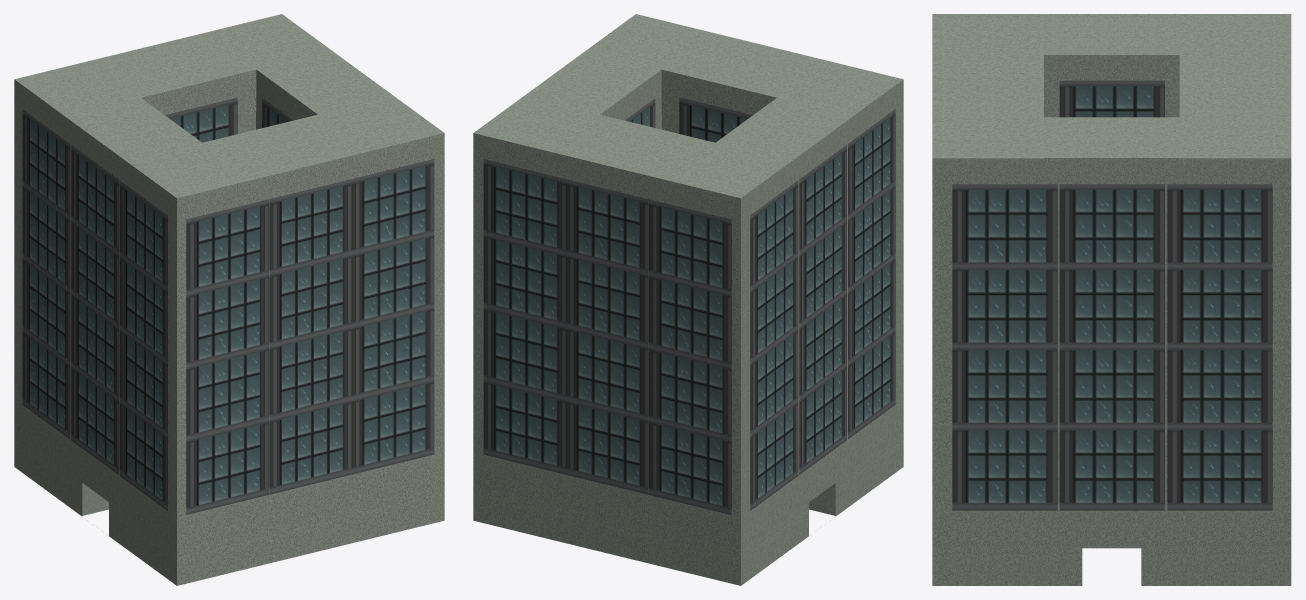
Rendered from BGN_BCW BUILD S.fbx.
3 renders of one model, left to right at view 1: azimuth 30°, elevation 25°; view 2: azimuth 150°, elevation 25°; view 3: azimuth 270°, elevation 25°, orthographic. The views are drawn at different scales.
Parts seen in each view (by area): view 1: BGN_BCW_BUILD_S; view 2: BGN_BCW_BUILD_S; view 3: BGN_BCW_BUILD_S.
Part boxes in pixels (x1,y1,x2,y2): BGN_BCW_BUILD_S: (14,14,444,585); BGN_BCW_BUILD_S: (473,14,903,585); BGN_BCW_BUILD_S: (932,14,1291,585).
Bounding box in the file's own units: 2804 × 3862 × 2940.
